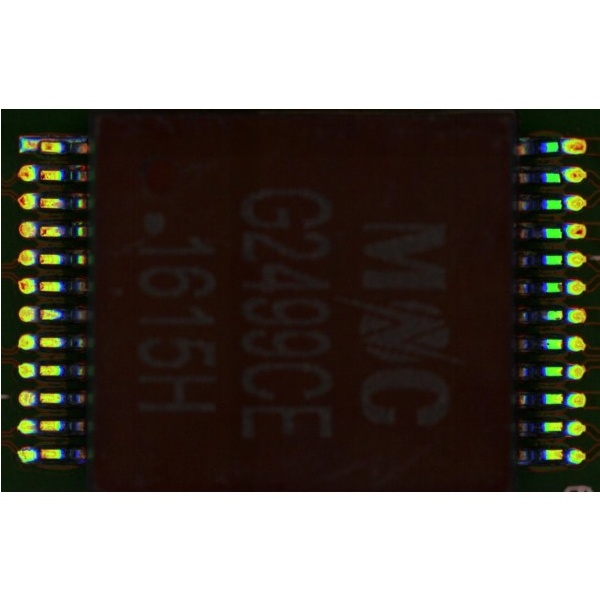Bad_podu: (30, 140, 46, 149)
Bad_qiaojiao: (40, 137, 78, 141)
